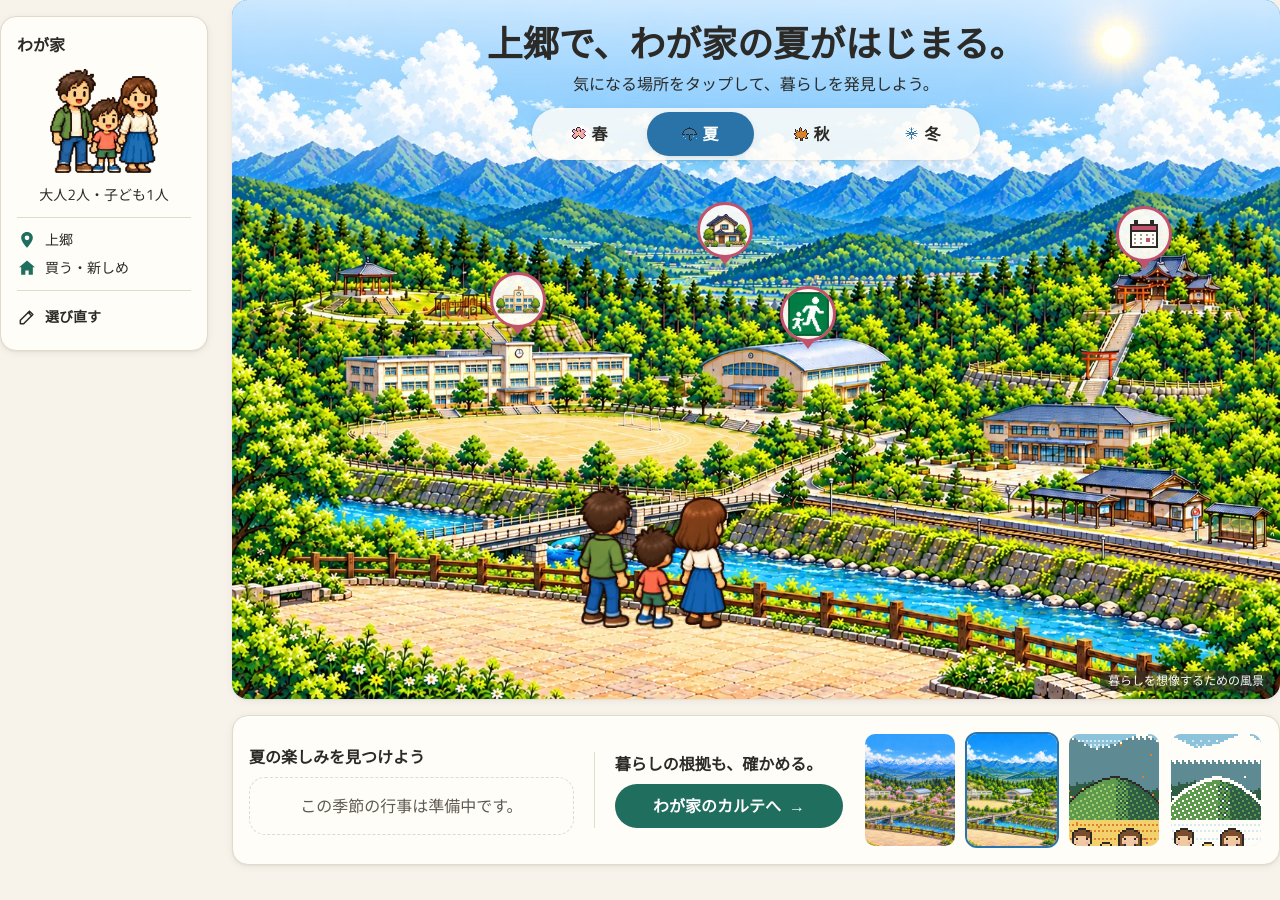
KurashiView：上郷・夏の風景とピン（028） › 避難場所の数が出せないときは、見出しから数を外して「データ未取得」と出す
The width and height of the screenshot is (1280, 900).
Click the button named "避難場所" at (808,318), box [780,286,836,349]
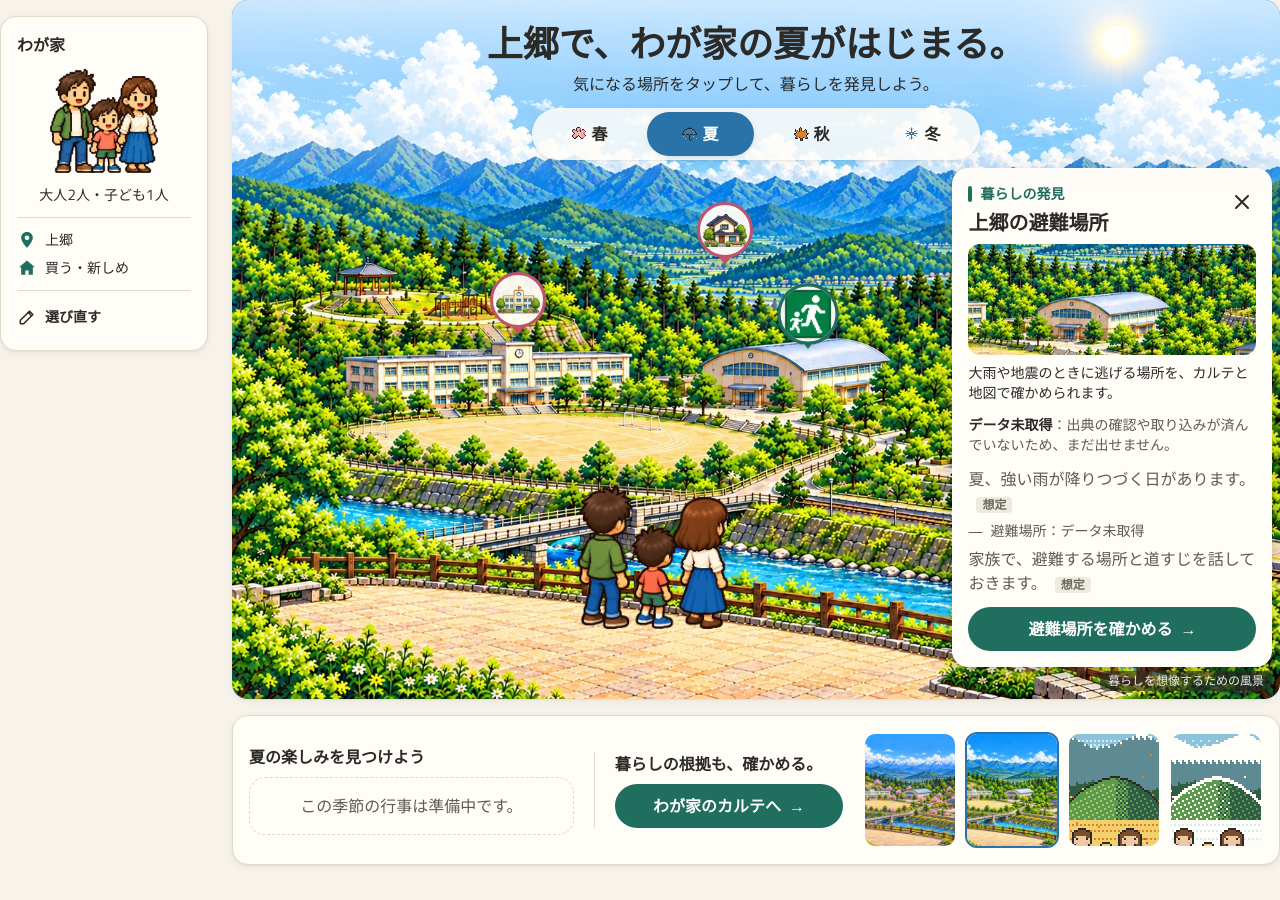
Now the dialog "上郷の避難場所" shows "データ未取得", box [968,415,1052,434]
